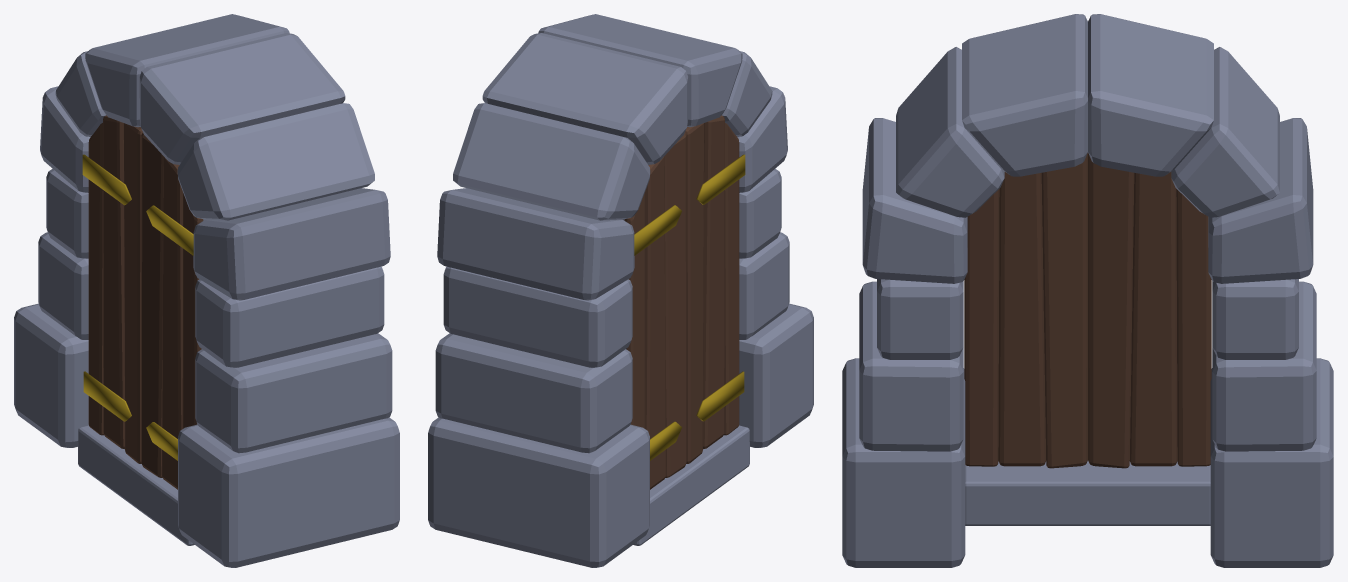
File: Deleteme_door.fbx
The picture shows the model from 3 angles, left to right: view 1: azimuth 30°, elevation 25°; view 2: azimuth 150°, elevation 25°; view 3: azimuth 270°, elevation 25°; orthographic projection. The views are drawn at different scales.
Visible parts, largest first — view 1: Cube.003; view 2: Cube.003; view 3: Cube.003.
Boxes of the visible parts, x1,y1,x2,y2 form: Cube.003: (14,14,399,567); Cube.003: (428,14,813,567); Cube.003: (842,14,1333,567).
Bounding box in the file's own units: 221 × 524 × 472.
